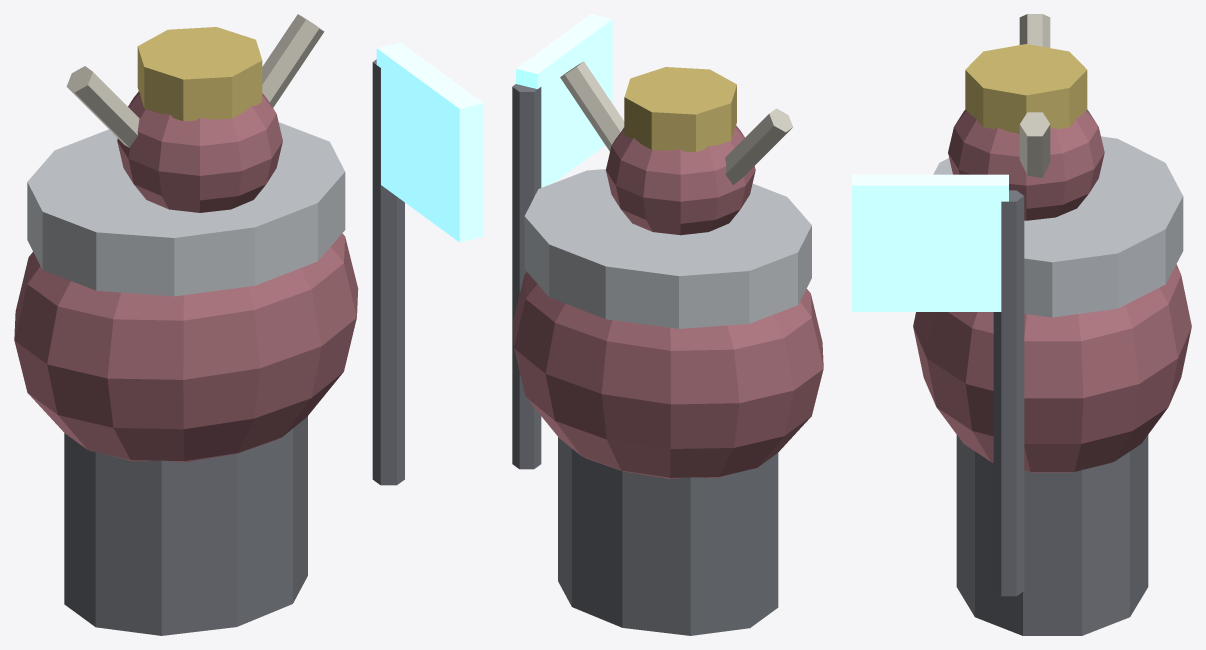
File: warlord.glb
3 renders of one model, left to right at view 1: azimuth 30°, elevation 25°; view 2: azimuth 150°, elevation 25°; view 3: azimuth 270°, elevation 25°, orthographic. The views are drawn at different scales.
Parts seen in each view (by area): view 1: BodyMesh, AxeBlade; view 2: BodyMesh, AxeBlade; view 3: BodyMesh, AxeBlade.
Boxes of the visible parts, x1,y1,x2,y2 form: BodyMesh: (14, 14, 404, 635); AxeBlade: (376, 42, 483, 242); BodyMesh: (512, 61, 823, 635); AxeBlade: (516, 14, 612, 187); BodyMesh: (913, 14, 1191, 635); AxeBlade: (852, 174, 1008, 311).
Size of the model in its own units: 0.8703 by 1.33 by 0.78.
